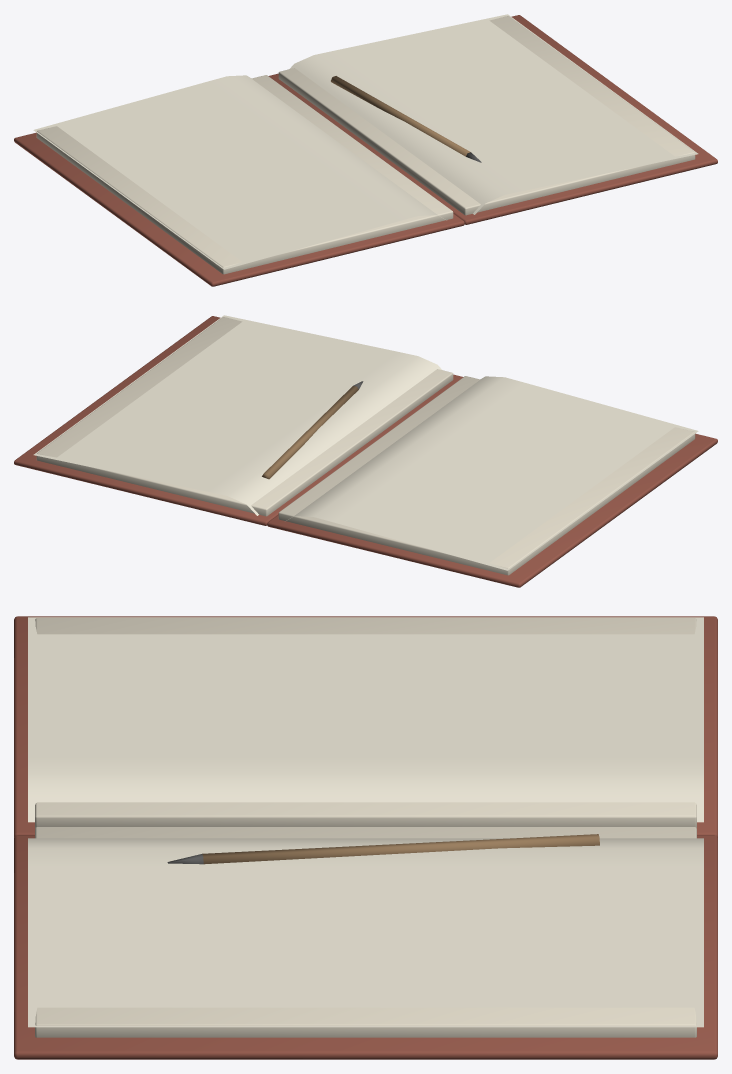
File: ss_logbook.glb
3 renders of one model, top to bottom at view 1: azimuth 30°, elevation 25°; view 2: azimuth 150°, elevation 25°; view 3: azimuth 270°, elevation 25°, orthographic. The views are drawn at different scales.
Parts seen in each view (by area): view 1: ss_logbook; view 2: ss_logbook; view 3: ss_logbook.
Part boxes in pixels (bbox=[...]): ss_logbook: bbox=[14, 14, 717, 286]; ss_logbook: bbox=[14, 315, 717, 587]; ss_logbook: bbox=[14, 616, 717, 1059].
Bounding box in the file's own units: 0.444 × 0.019 × 0.302.
